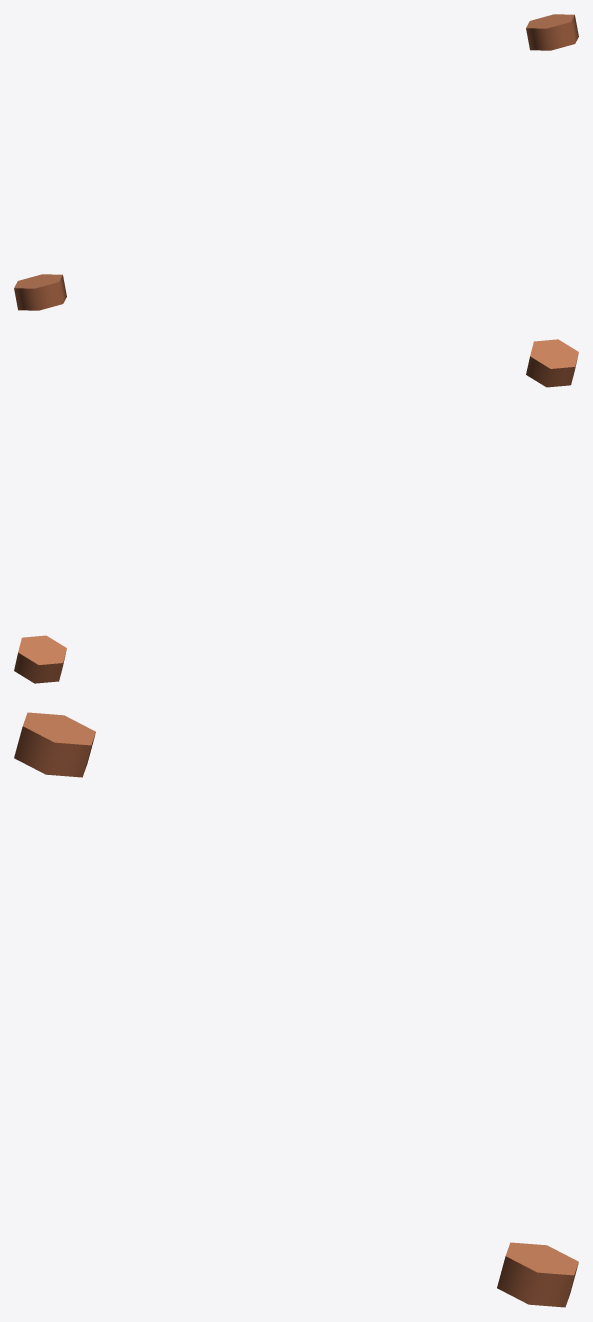
File: cozy_lake_tree_stump.glb
The picture shows the model from 3 angles, top to bottom: view 1: azimuth 30°, elevation 25°; view 2: azimuth 210°, elevation 25°; view 3: azimuth 270°, elevation 25°; orthographic projection. The views are drawn at different scales.
Visible parts, largest first — view 1: Tree_Stump; view 2: Tree_Stump; view 3: Tree_Stump.
Boxes of the visible parts, x1=… form: Tree_Stump: x1=14, y1=14, x2=578, y2=310; Tree_Stump: x1=14, y1=339, x2=578, y2=683; Tree_Stump: x1=14, y1=712, x2=578, y2=1307.
Bounding box in the file's own units: 219 × 14.74 × 97.12.
